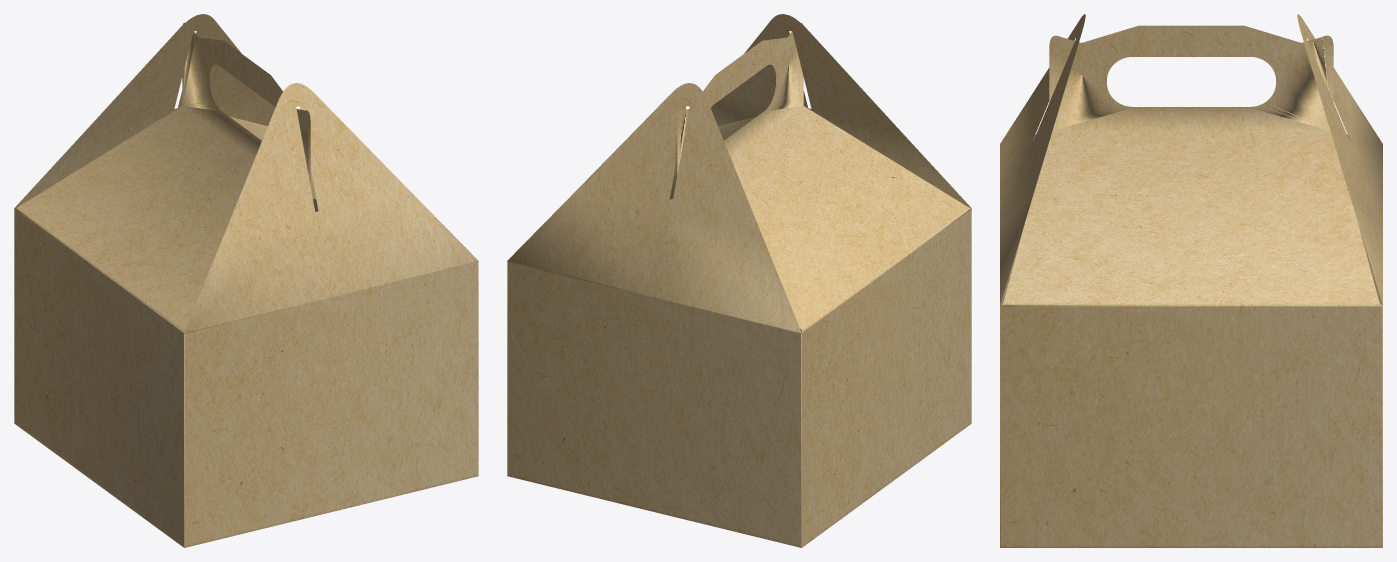
The model's file is caja.glb.
The picture shows the model from 3 angles, left to right: view 1: azimuth 30°, elevation 25°; view 2: azimuth 150°, elevation 25°; view 3: azimuth 270°, elevation 25°; orthographic projection. The views are drawn at different scales.
Parts seen in each view (by area): view 1: Mesh_0; view 2: Mesh_0; view 3: Mesh_0.
Boxes of the visible parts, bbox=[...] form: Mesh_0: bbox=[14, 14, 478, 547]; Mesh_0: bbox=[507, 14, 971, 547]; Mesh_0: bbox=[1000, 14, 1382, 547].
Size of the model in its own units: 4.72 by 6.14 by 4.72.
1 material, 1 textured.
